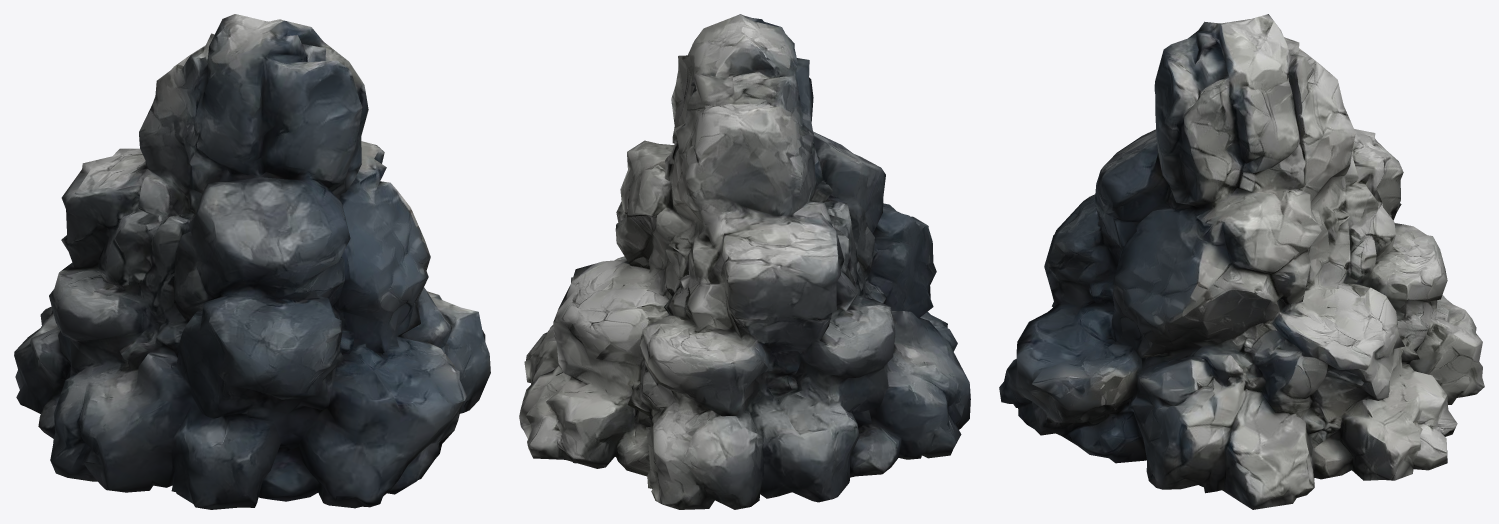
Rendered from qr_ridge2.glb.
3 renders of one model, left to right at view 1: azimuth 30°, elevation 25°; view 2: azimuth 150°, elevation 25°; view 3: azimuth 270°, elevation 25°, orthographic. The views are drawn at different scales.
Parts seen in each view (by area): view 1: tripo_node_760f47fb-4910-4040-b1d8-bd720c8b3441; view 2: tripo_node_760f47fb-4910-4040-b1d8-bd720c8b3441; view 3: tripo_node_760f47fb-4910-4040-b1d8-bd720c8b3441.
Part boxes in pixels (box(x1,y1,x2,y2)): tripo_node_760f47fb-4910-4040-b1d8-bd720c8b3441: box(14, 14, 490, 509); tripo_node_760f47fb-4910-4040-b1d8-bd720c8b3441: box(519, 14, 970, 509); tripo_node_760f47fb-4910-4040-b1d8-bd720c8b3441: box(999, 14, 1484, 509).
Bounding box in the file's own units: 1 × 0.8882 × 0.9982.
Materials: 1 (1 with a texture image).
